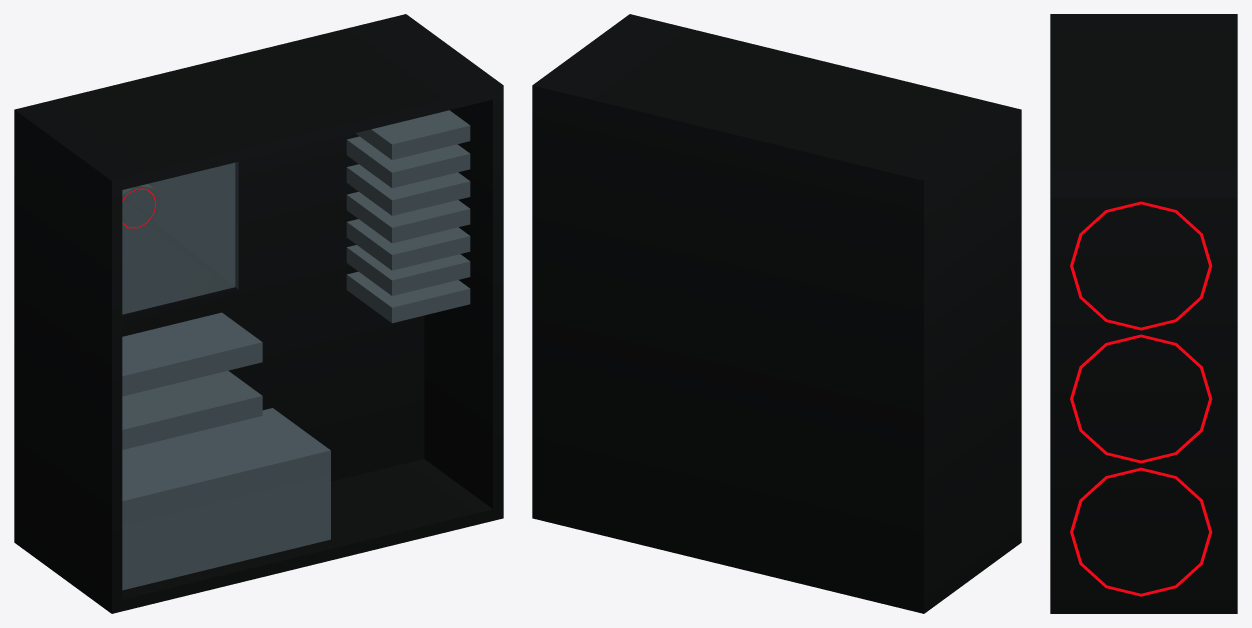
The model's file is Calculator,gaming,Hackathon.glb.
3 views of the same model, side by side, from view 1: azimuth 30°, elevation 25°; view 2: azimuth 150°, elevation 25°; view 3: azimuth 270°, elevation 25° (orthographic). The views are drawn at different scales.
Parts seen in each view (by area): view 1: Cube.010; view 2: Cube.010; view 3: Cube.010.
Part boxes in pixels (x1,y1,x2,y2): Cube.010: [14, 14, 503, 613]; Cube.010: [532, 14, 1021, 613]; Cube.010: [1050, 14, 1237, 613].
Size of the model in its own units: 2.96 by 3.12 by 1.28.
Materials: 2 (1 with a texture image).
